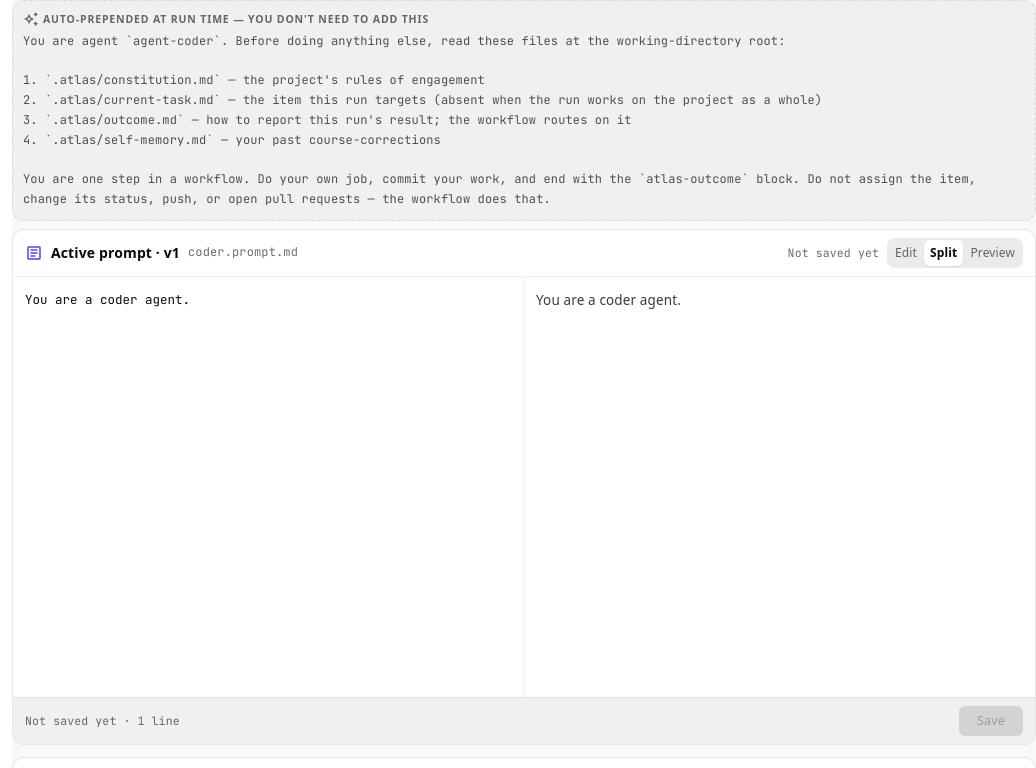
Test: PromptTabContent › Discard button reverts changes
This screenshot has width=1036, height=768.
Expected: the text "Active prompt · v1" is shown, [51,242,180,264]
Type " extra text" into the text box at (268, 487), box [13,277,523,697]
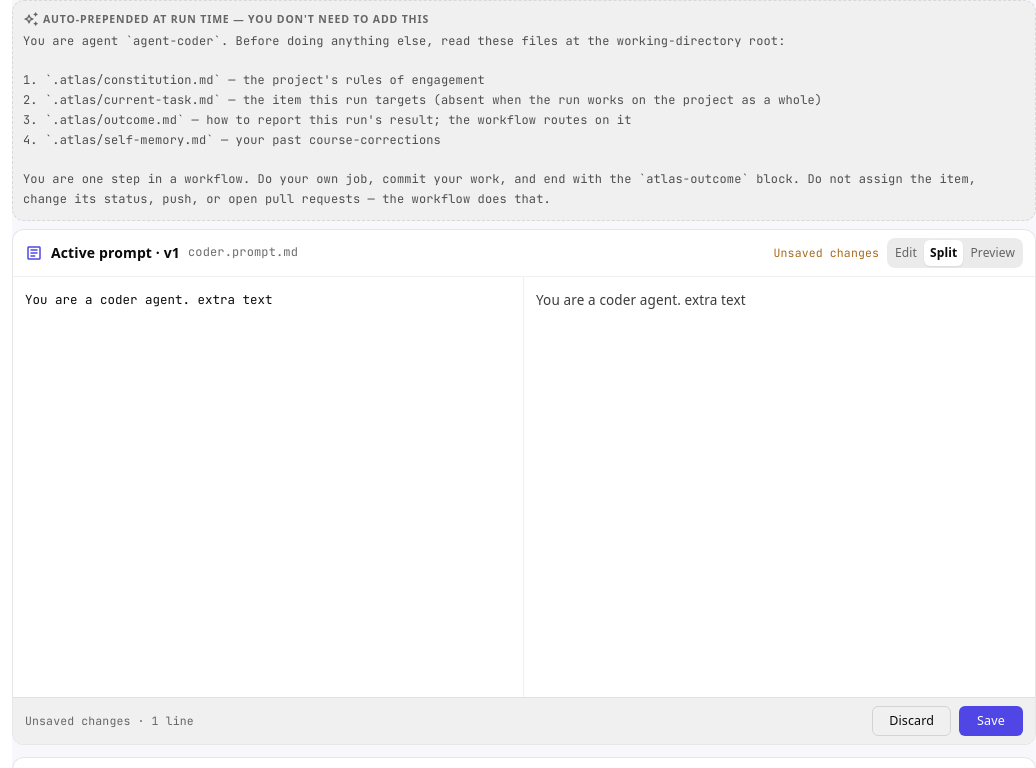
Now the button "Discard" is shown
Click the button "Discard" at (912, 721), box [872,706,951,736]
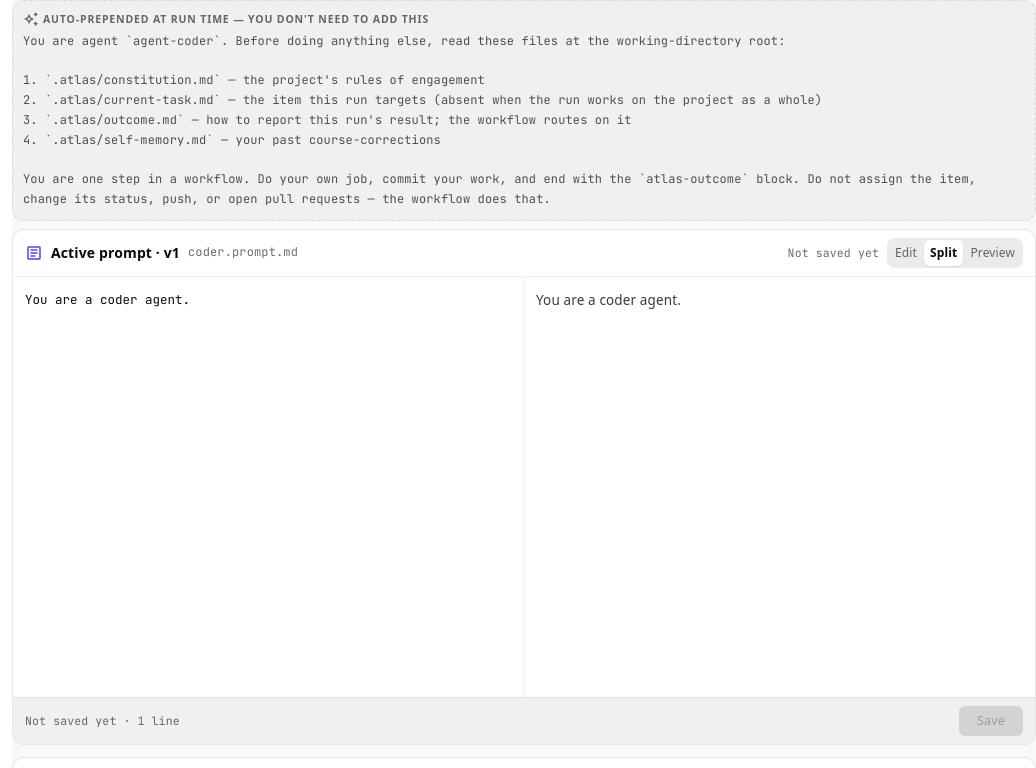
Now the text box holds "You are a coder agent.", box [13,277,523,697]
